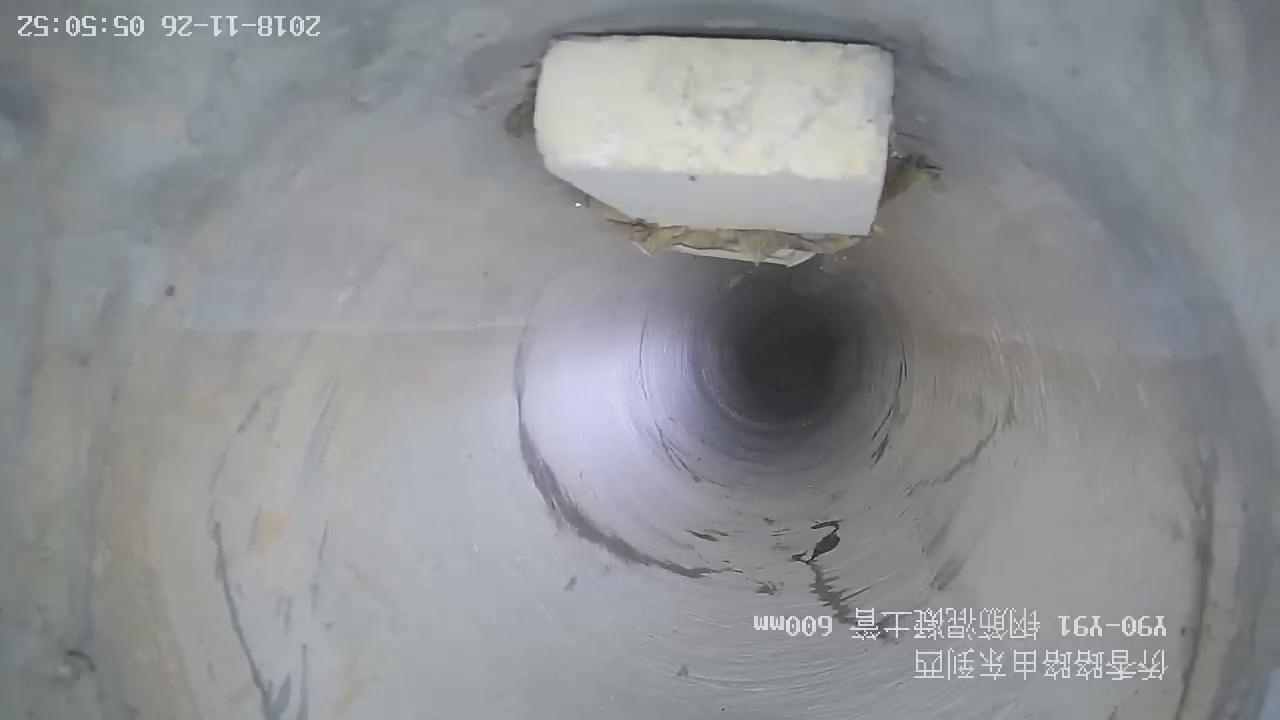ZAW: (534, 35, 894, 267)
